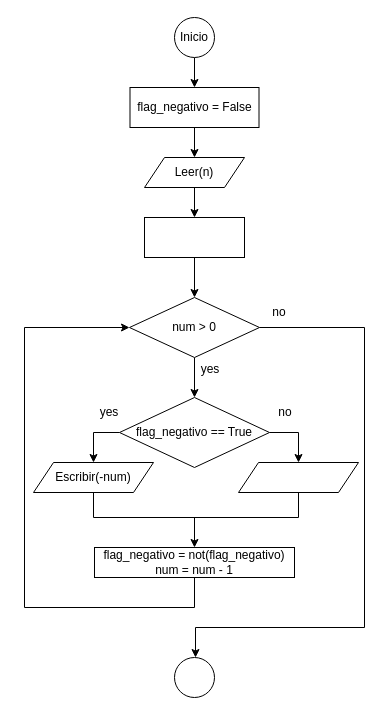
The diagram is 390 pixels wide and 715 high, and some of its shapes have lost their labels. The box of each missing label's shape, as (x1, y1, x2, y2) in pixels:
Escribir(num): (238, 462, 358, 492)
Fin: (174, 656, 214, 698)
num = n: (144, 216, 244, 258)
